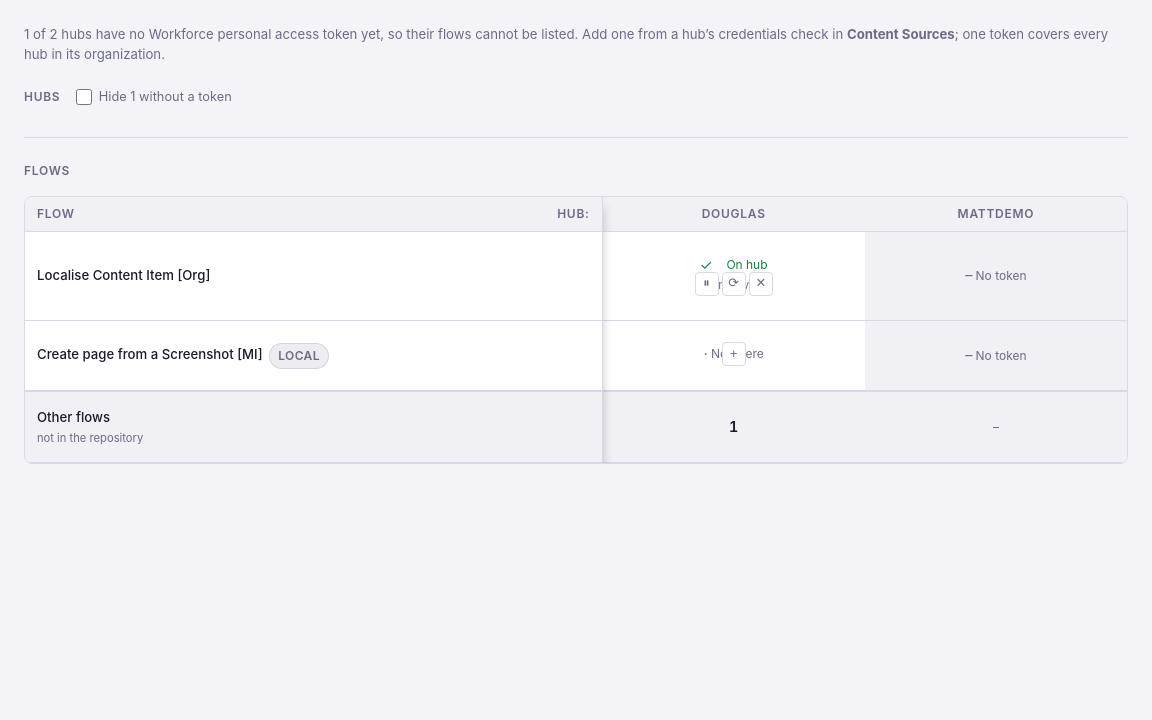
it: FlowsTab — running an operation › logs a refusal without re-reading the grid
Click the button named "Push douglas".
click(734, 354)  # box [722,342,746,366]
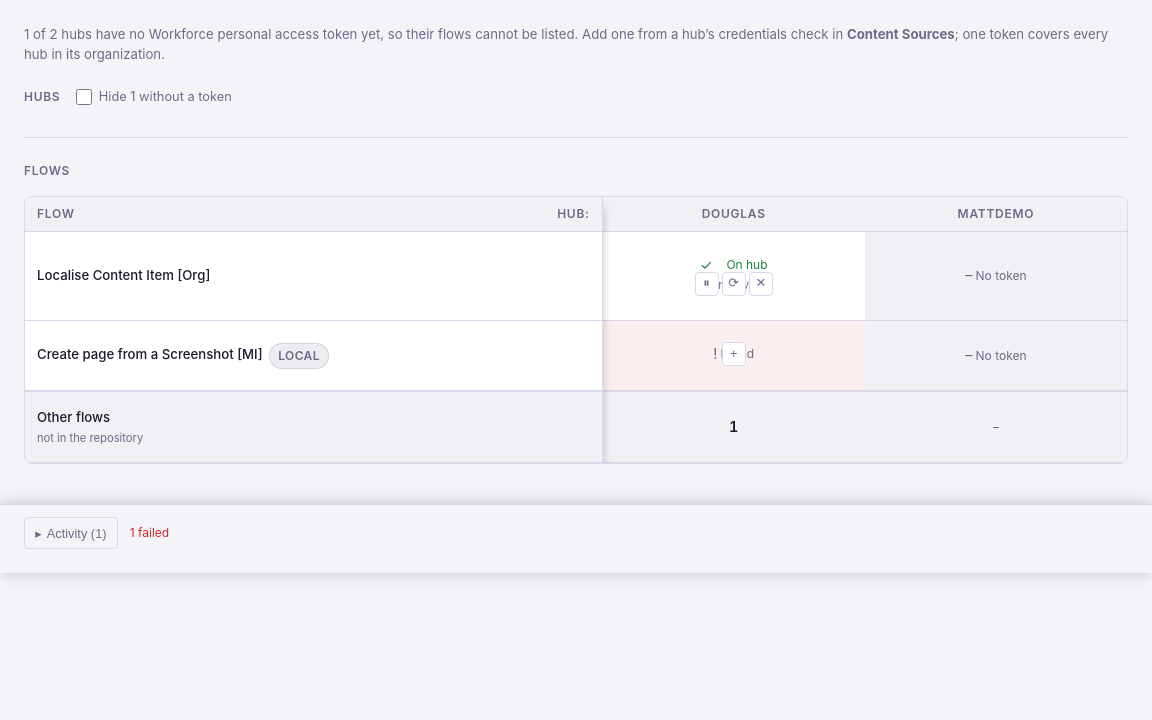
Now the text "1 failed" is shown, box [130,524,169,542]
